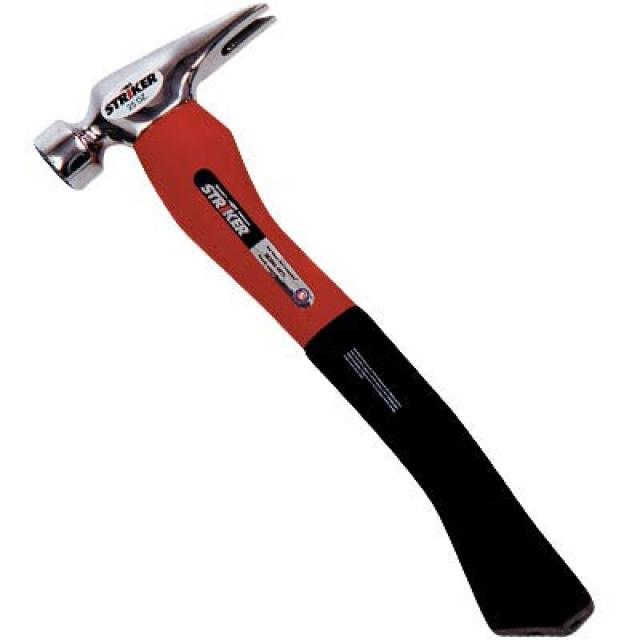hammer: (2, 0, 538, 520)
